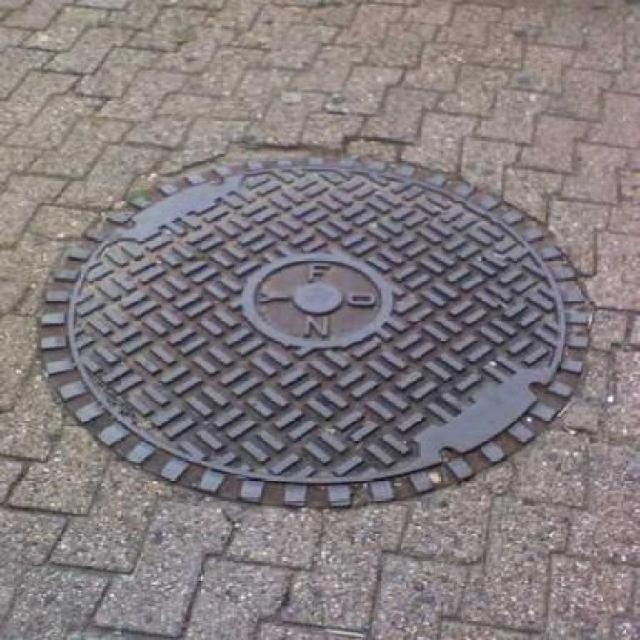Manhole: (27, 136, 603, 509)
